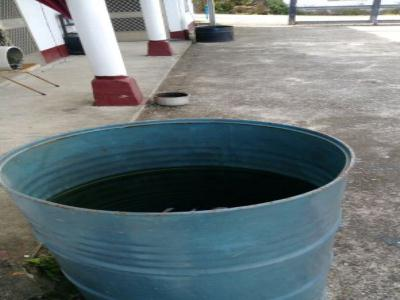bowl: (151, 90, 195, 108)
bucket: (2, 117, 357, 299)
